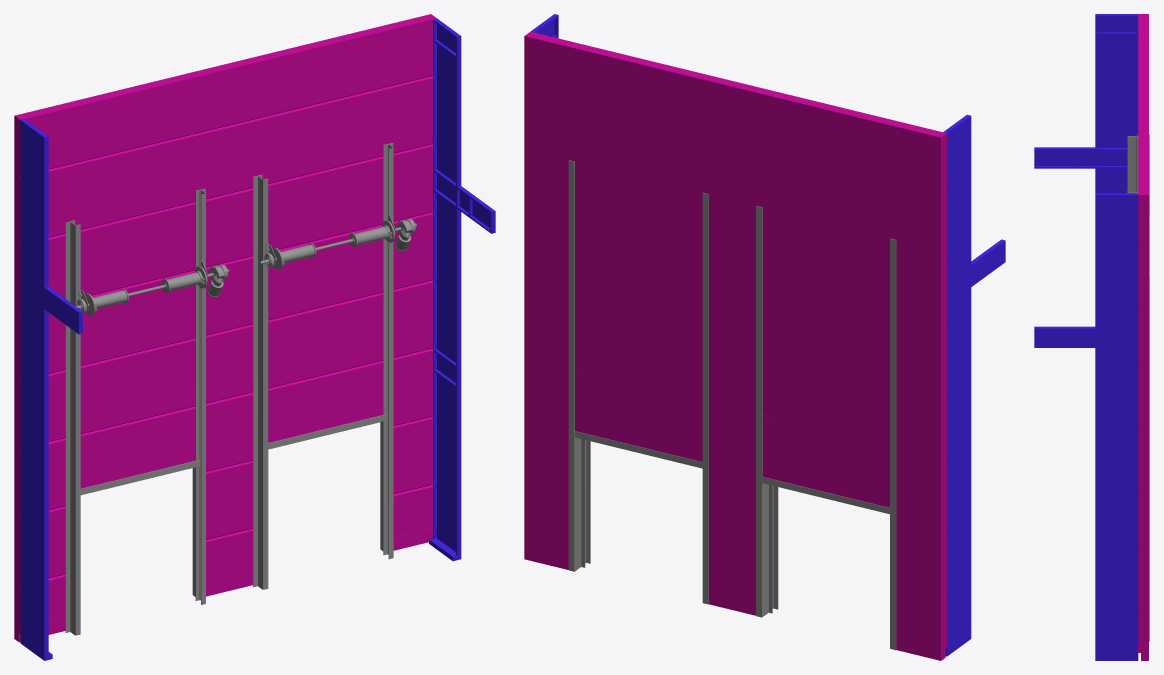
File: Dock_Wall_B.glb
The picture shows the model from 3 angles, left to right: view 1: azimuth 30°, elevation 25°; view 2: azimuth 150°, elevation 25°; view 3: azimuth 270°, elevation 25°; orthographic projection. The views are drawn at different scales.
Visible parts, largest first — view 1: Dock_Wall_B; view 2: Dock_Wall_B; view 3: Dock_Wall_B.
Part boxes in pixels (left/top/right/bottom): Dock_Wall_B: left=14, top=14, right=495, bottom=660; Dock_Wall_B: left=524, top=14, right=1005, bottom=660; Dock_Wall_B: left=1034, top=14, right=1149, bottom=660.
Size of the model in its own units: 10 by 12 by 2.7.
